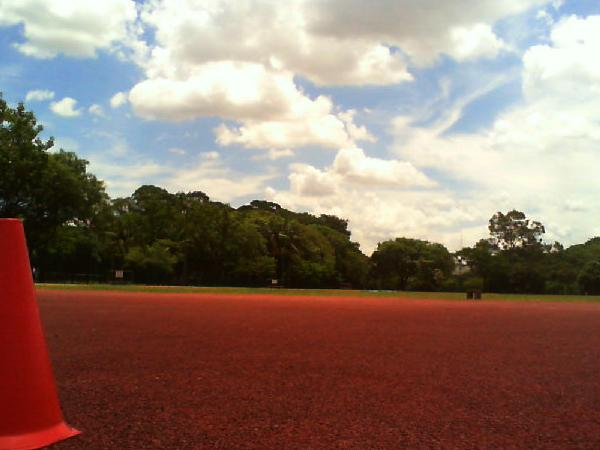0 cone: (0, 218, 82, 450)
